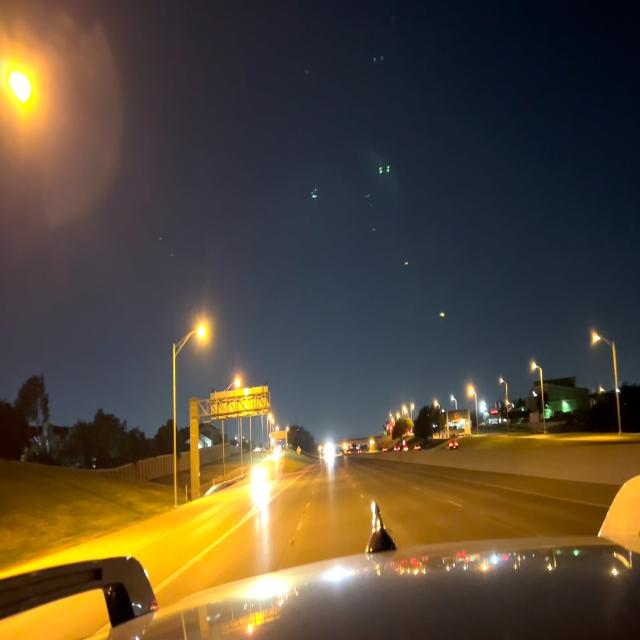back-of-sign: (211, 384, 271, 422)
